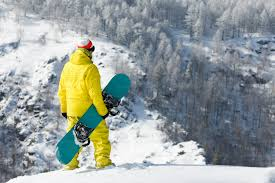snowboard: (54, 71, 133, 166)
